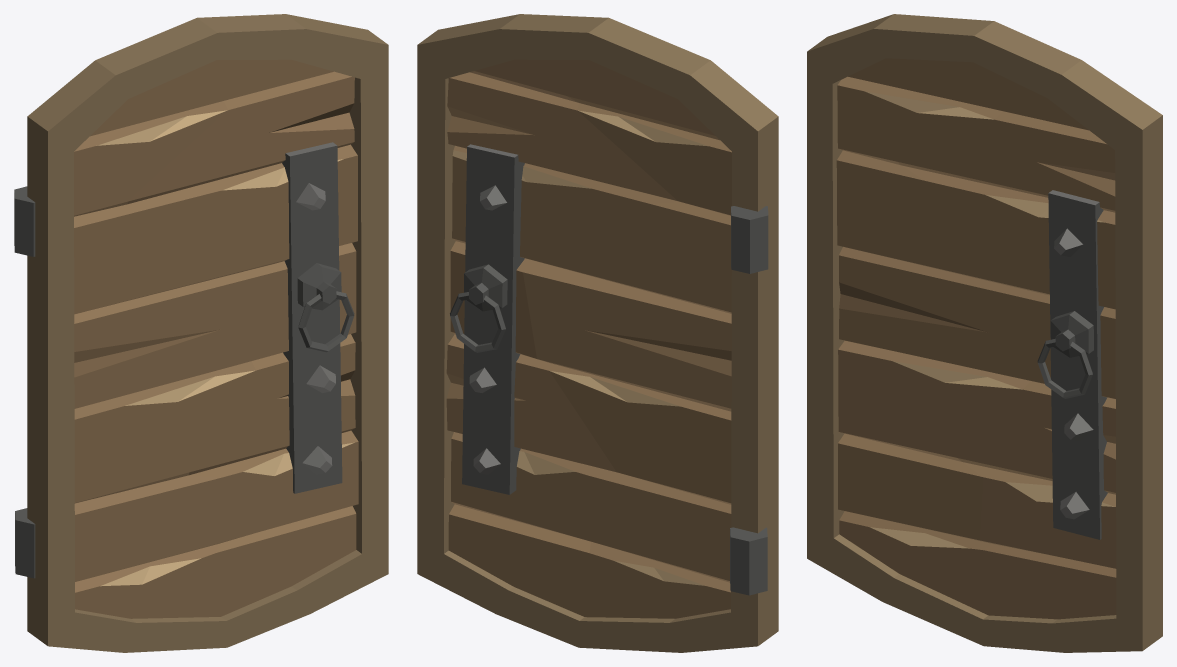
File: rpgpp_ag_door_06a.fbx
3 renders of one model, left to right at view 1: azimuth 30°, elevation 25°; view 2: azimuth 150°, elevation 25°; view 3: azimuth 330°, elevation 25°, orthographic.
Visible parts, largest first — view 1: rpgpp_ag_door_06a; view 2: rpgpp_ag_door_06a; view 3: rpgpp_ag_door_06a.
Part boxes in pixels (x1,y1,x2,y2): rpgpp_ag_door_06a: (14, 14, 388, 652); rpgpp_ag_door_06a: (417, 14, 778, 652); rpgpp_ag_door_06a: (807, 14, 1162, 652).
Bounding box in the file's own units: 1.31 × 2.19 × 0.2833.
